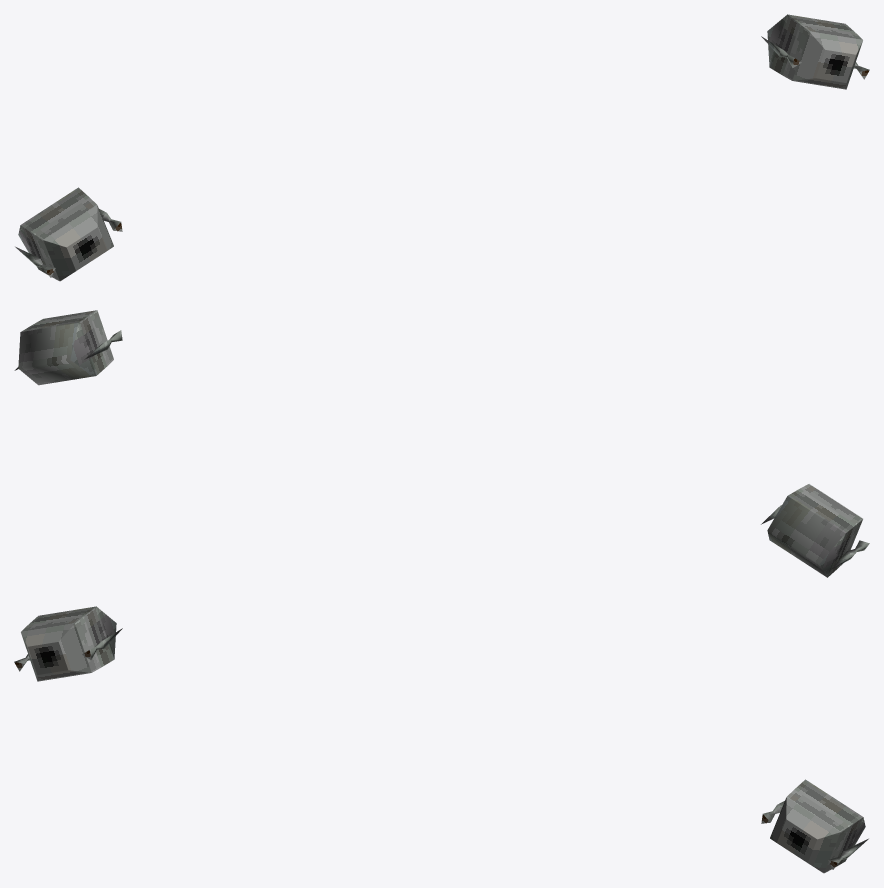
Rendered from hutt_fighter_light_weapon_s03_l2.fbx.
The picture shows the model from 3 angles, top to bottom: view 1: azimuth 30°, elevation 25°; view 2: azimuth 150°, elevation 25°; view 3: azimuth 330°, elevation 25°; orthographic projection.
Visible parts, largest first — view 1: mesh_node; view 2: mesh_node; view 3: mesh_node.
Part boxes in pixels (x1,y1,x2,y2): mesh_node: (15,14,869,281); mesh_node: (14,310,869,577); mesh_node: (14,606,868,873).
Size of the model in its own units: 3.61 by 0.3019 by 0.3227.
